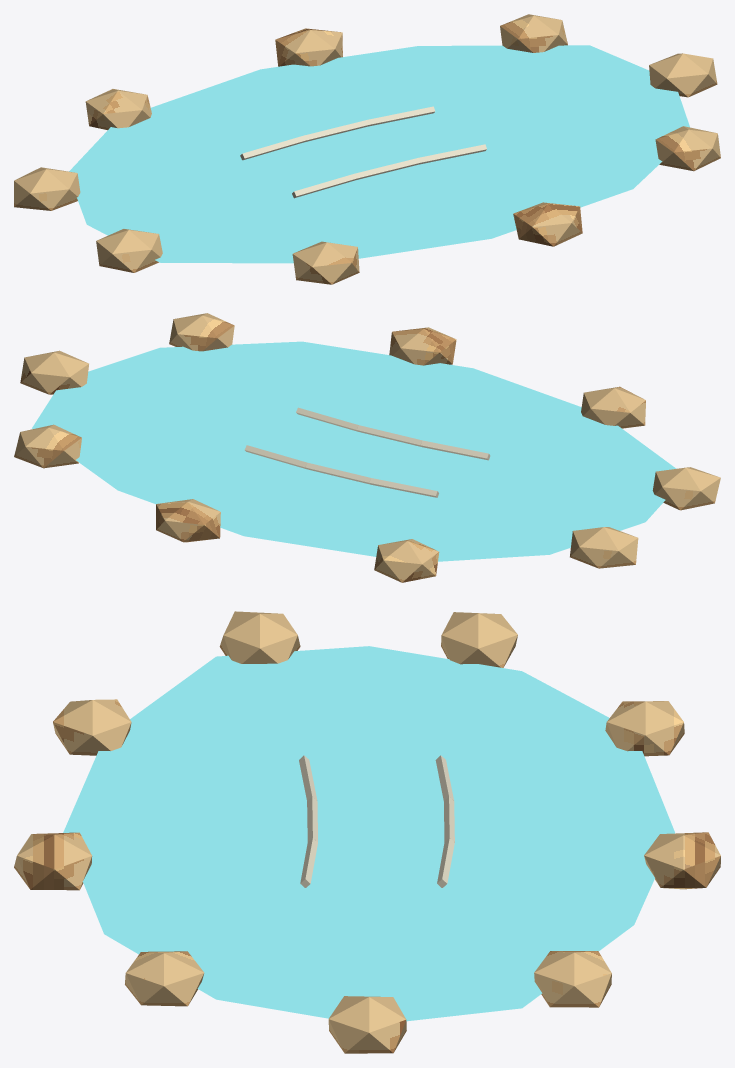
File: enfeite_lago.fbx
3 renders of one model, top to bottom at view 1: azimuth 30°, elevation 25°; view 2: azimuth 150°, elevation 25°; view 3: azimuth 270°, elevation 25°, orthographic. The views are drawn at different scales.
Parts seen in each view (by area): view 1: deserto_enfeite_lago; view 2: deserto_enfeite_lago; view 3: deserto_enfeite_lago.
Part boxes in pixels (x1,y1,x2,y2): deserto_enfeite_lago: (14, 14, 720, 284); deserto_enfeite_lago: (14, 313, 720, 582); deserto_enfeite_lago: (14, 611, 720, 1053).
Bounding box in the file's own units: 154 × 9.51 × 109.
Materials: 3 (1 with a texture image).
